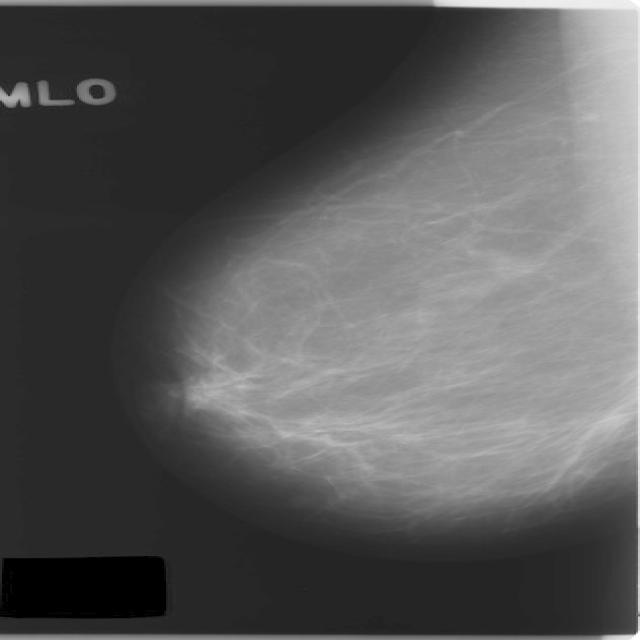tumour: (170, 368, 247, 410)
